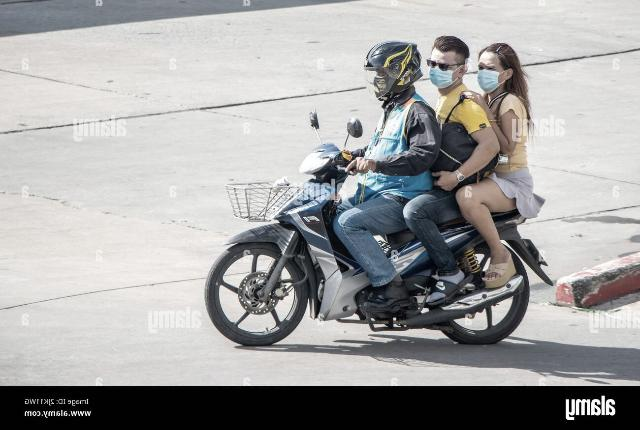helm: (365, 42, 423, 103)
motor: (206, 108, 555, 348)
non-helm: (430, 37, 470, 90), (478, 45, 520, 95)
